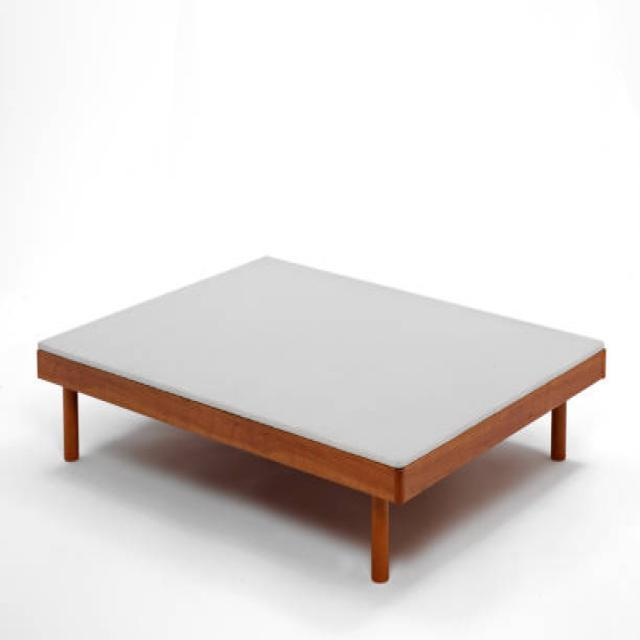table: (36, 252, 606, 582)
